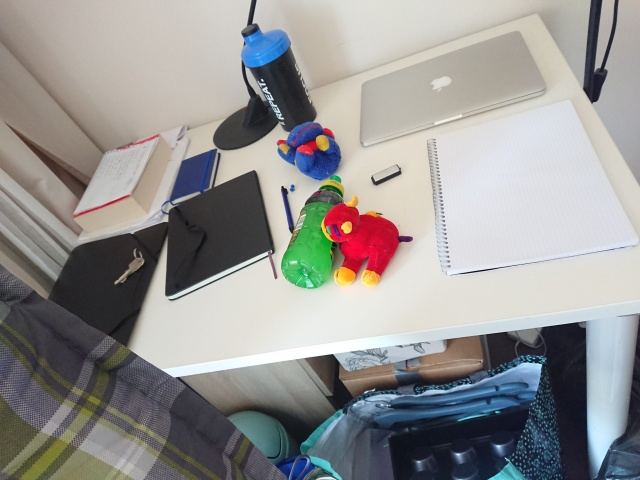Vindi Iso Sport Lemon-Grapefruit 500mL: (278, 173, 347, 291)
